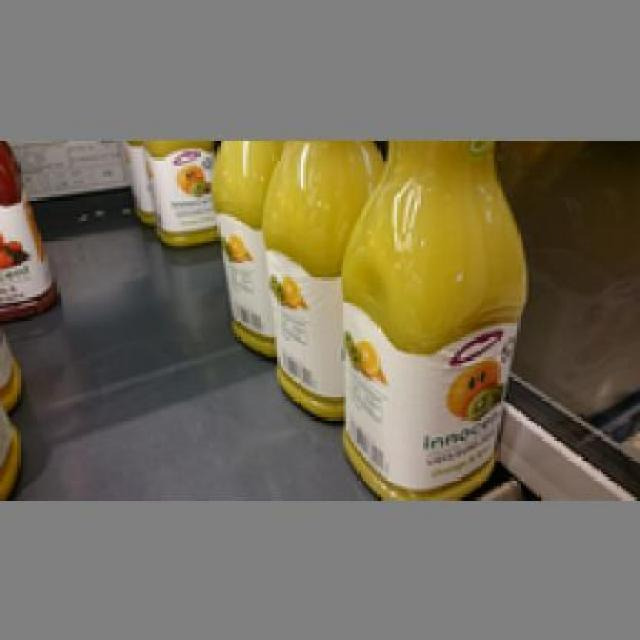Juice: (334, 137, 532, 497), (258, 140, 382, 420), (203, 137, 280, 357)
